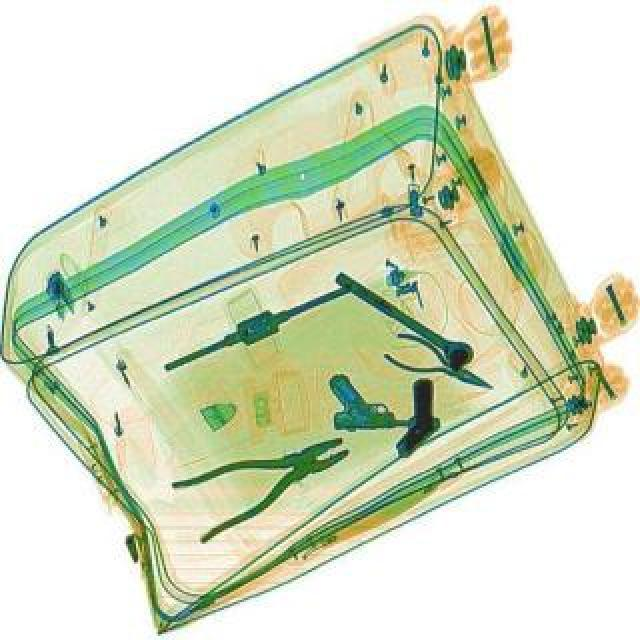gun: (362, 372, 462, 462), (328, 372, 438, 428)
wrench: (168, 412, 364, 544), (380, 326, 502, 402)
